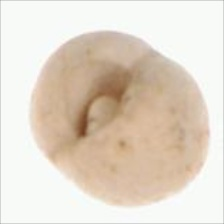L3: (71, 74, 128, 137)
L4: (30, 30, 210, 206)
